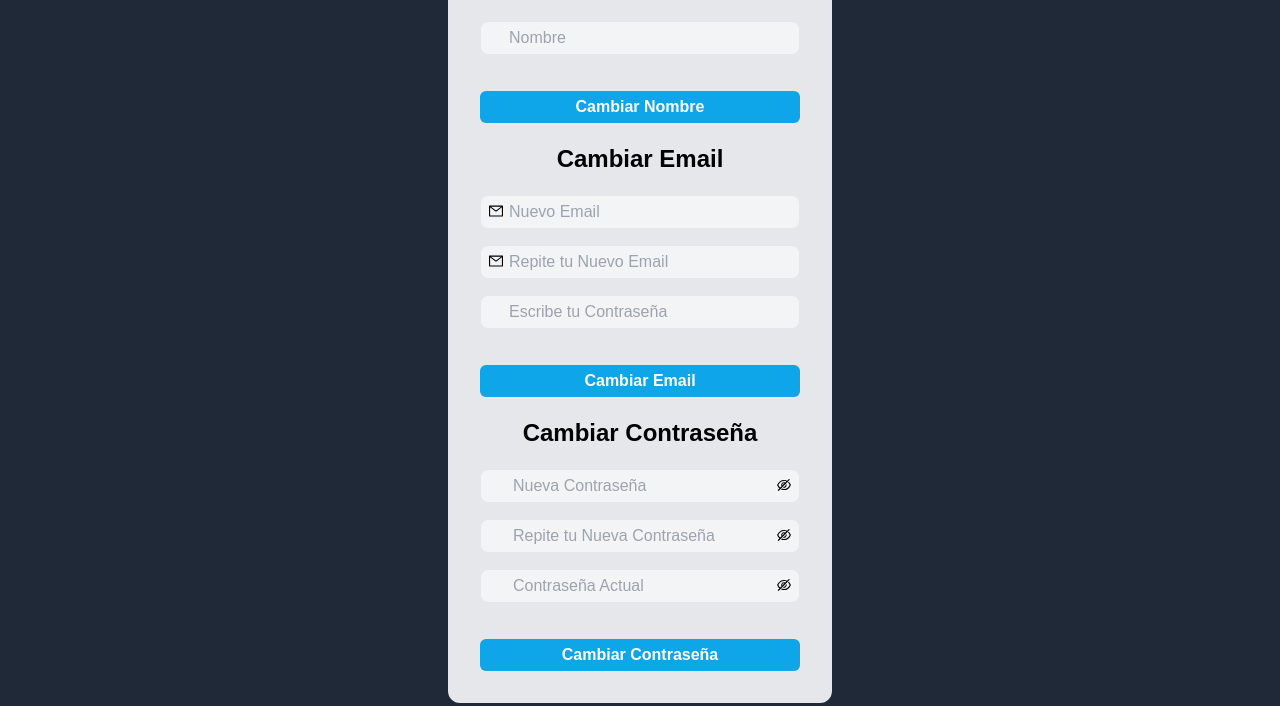
Test: Success message is shown when set_password succeeds
(page scrolled)
Click the button "Cambiar Contraseña" at (640, 655), box [480,639,800,671]
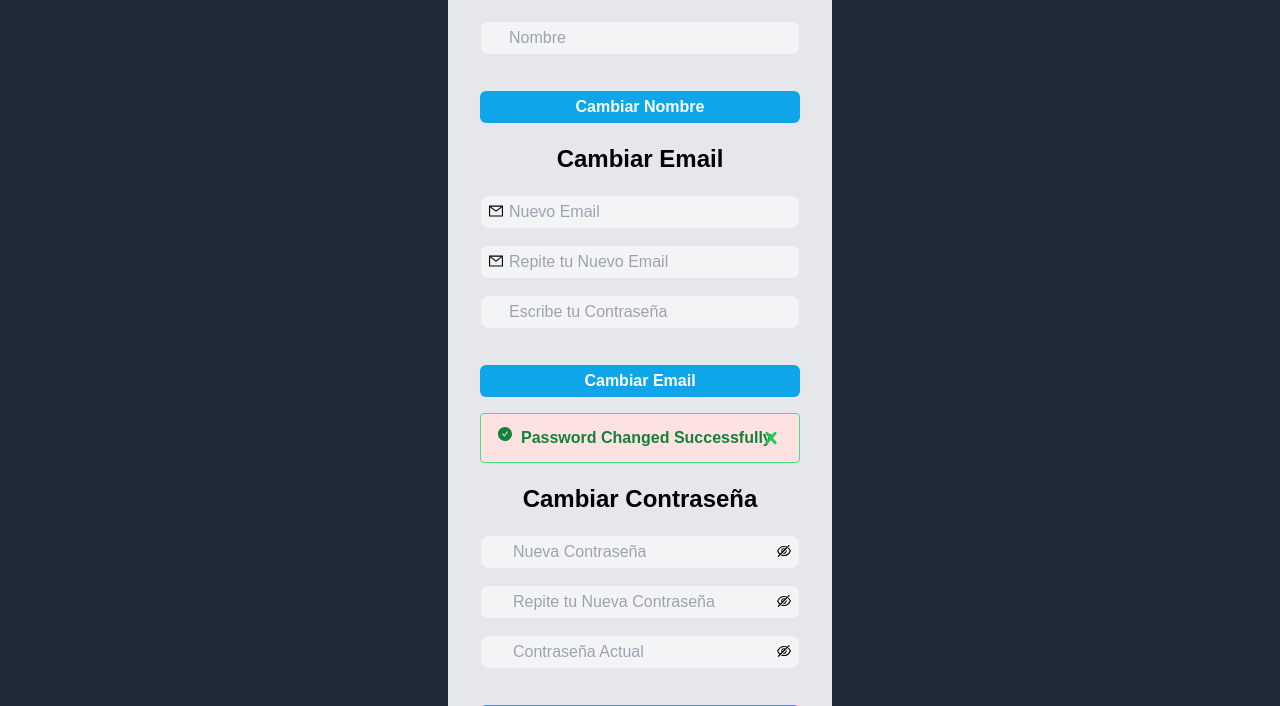
Now the text "Password Changed Successfully" is shown, box [521,426,772,450]
